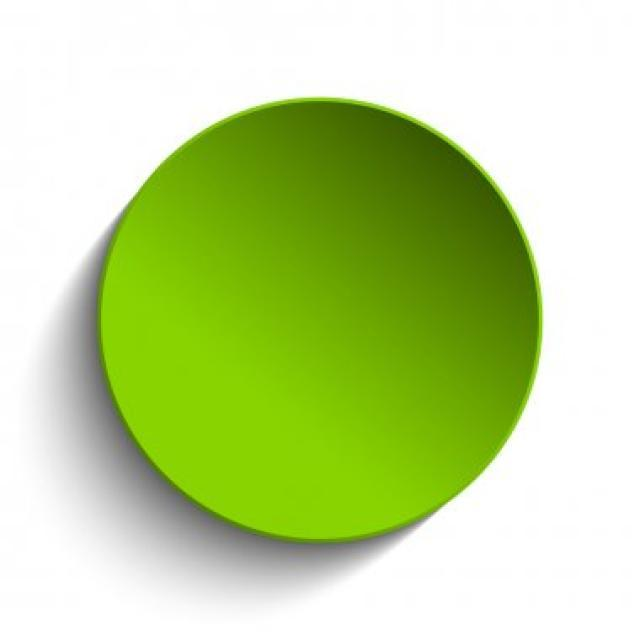Circle: (91, 96, 544, 547)
